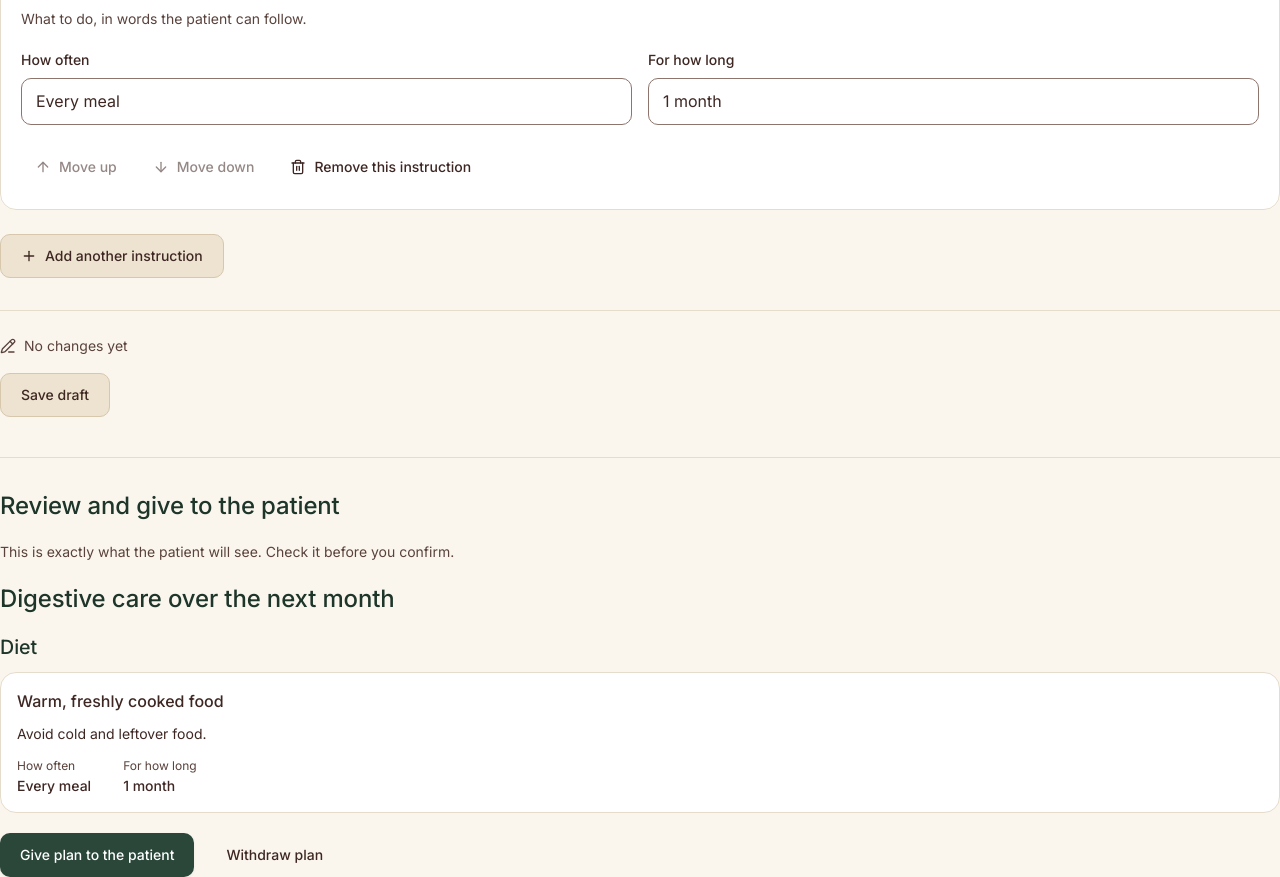
activation › says the plan becomes visible to the patient and can no longer be edited
(page scrolled)
Click the button "Give plan to the patient" at coordinates (97, 855), box [0,833,194,876]
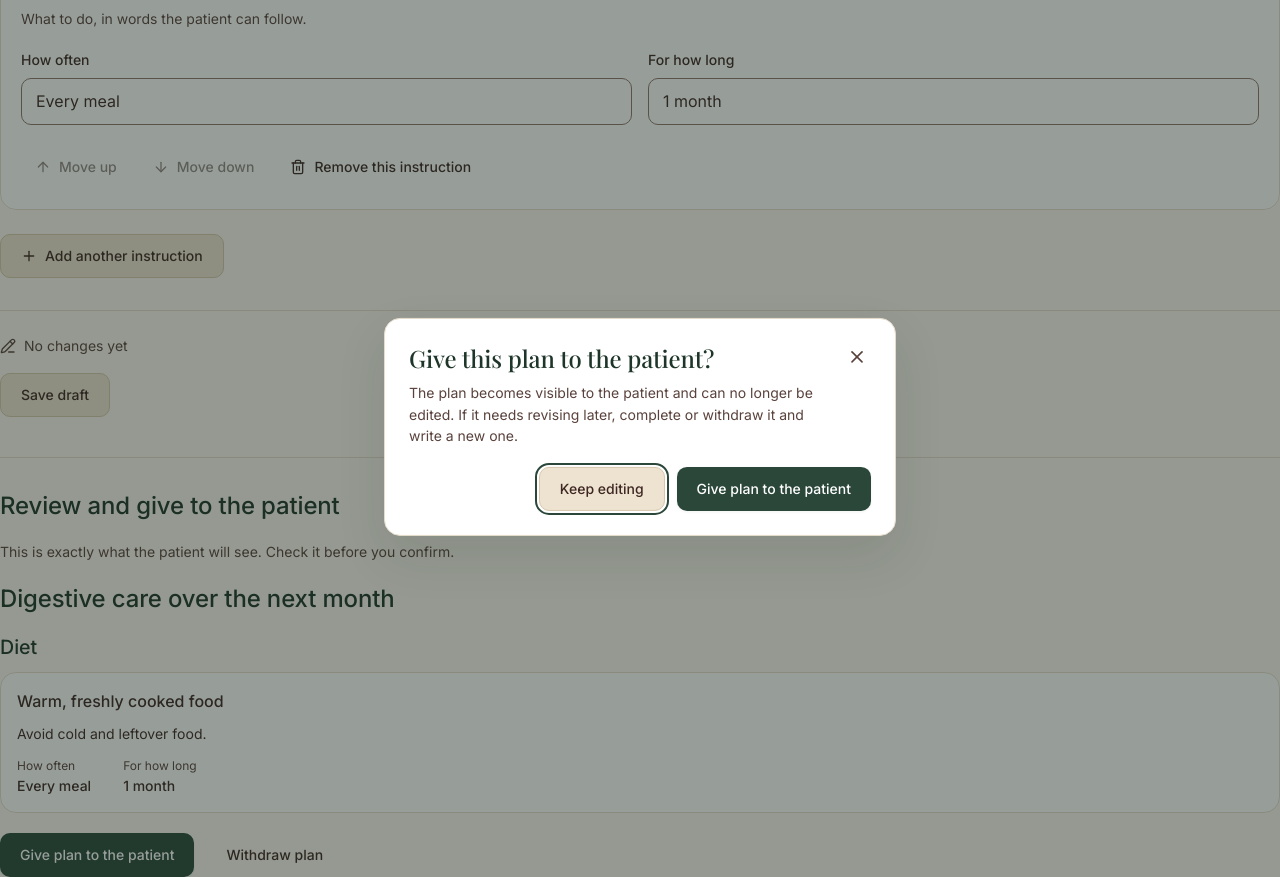
Now the text "visible to the patient and can no longer be edited" is shown, box [409,384,813,444]
